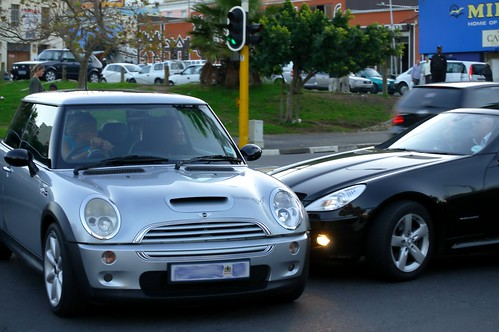building: (142, 1, 413, 59), (415, 1, 499, 63)
car: (2, 89, 305, 305), (279, 114, 499, 270), (397, 53, 489, 96), (16, 46, 101, 83), (128, 56, 177, 84)
tree: (226, 5, 389, 132)
